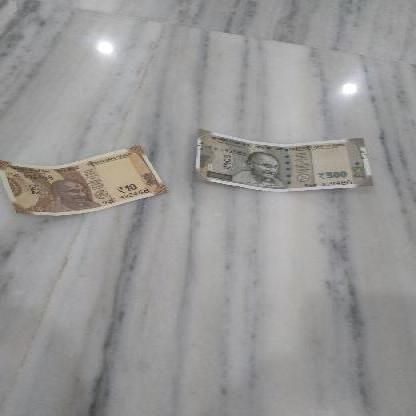New10Front: (0, 147, 174, 216)
New500Front: (192, 130, 369, 192)
